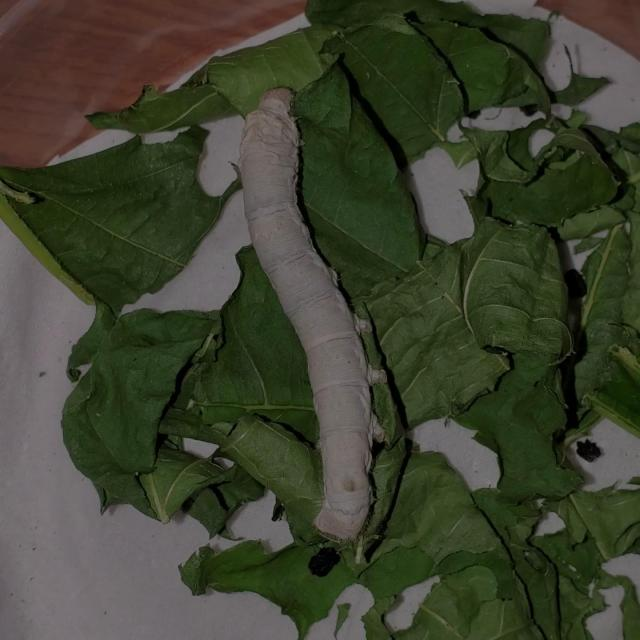Healthy: (210, 70, 428, 559)
